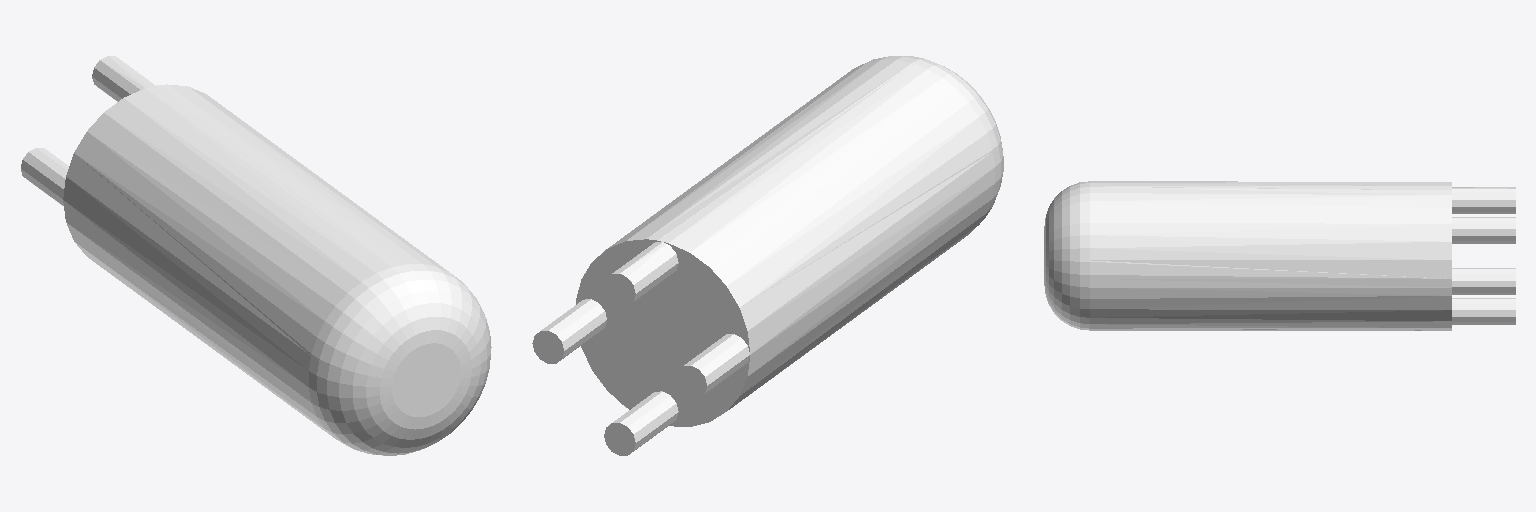
The robot description file, URDF, robot "v1301":
<robot
  name="v1301">
  <link
    name="v1301">
    <inertial>
      <origin
        xyz="-2.9698E-17 -2.1428 -7.9194999998688E-06"
        rpy="0 0 0" />
      <mass
        value="9579.6" />
      <inertia
        ixx="17997.7680393243"
        ixy="-4.99284049003401E-13"
        ixz="-3.51778184608284E-15"
        iyy="3237.68372990313"
        iyz="0.1891155444115"
        izz="17997.932360176" />
    </inertial>
    <visual>
      <origin
        xyz="0 0 0"
        rpy="1.5707963267949 0 0" />
      <geometry>
        <mesh
          filename="package://v1301/meshes/v1301.STL" />
      </geometry>
      <material
        name="">
        <color
          rgba="1 1 1 1" />
      </material>
    </visual>
    <collision>
      <origin
        xyz="0 0 0"
        rpy="1.5707963267949 0 0" />
      <geometry>
        <mesh
          filename="package://v1301/meshes/v1301.STL" />
      </geometry>
    </collision>
  </link>
</robot>

--- Render facts (derived) ---
Views: 3 orthographic renders of the robot side by side, from view 1: azimuth 30°, elevation 25°; view 2: azimuth 150°, elevation 25°; view 3: azimuth 270°, elevation 25°.
Model v1301 with 1 links and 0 joints (none), rooted at v1301, posed every joint at zero.
Visible links, largest first — view 1: v1301; view 2: v1301; view 3: v1301.
Link boxes in pixels (x1=…): v1301: x1=21, y1=56, x2=491, y2=455; v1301: x1=532, y1=56, x2=1003, y2=455; v1301: x1=1044, y1=181, x2=1515, y2=330.
Size in the robot's own frame: 1.65 by 5.2 by 1.65 metres.
1 mesh visuals loaded from 1 distinct referenced files (1 binary STL).